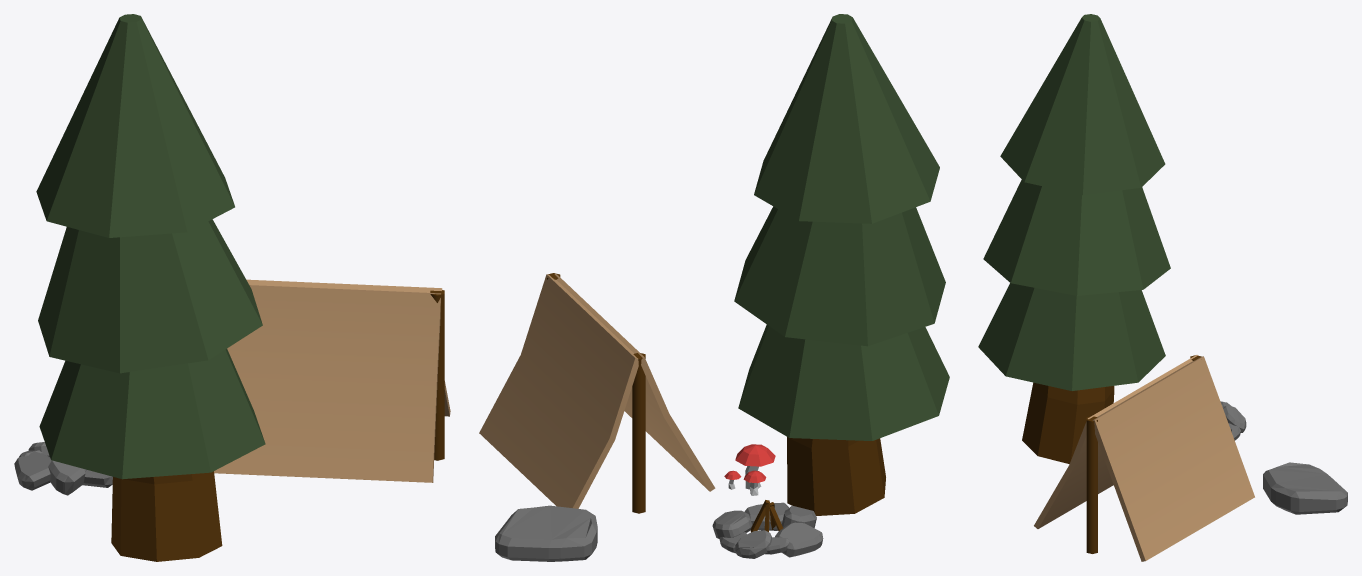
The model's file is CampForestDetail.fbx.
3 views of the same model, side by side, from view 1: azimuth 30°, elevation 25°; view 2: azimuth 150°, elevation 25°; view 3: azimuth 270°, elevation 25° (orthographic). The views are drawn at different scales.
Parts seen in each view (by area): view 1: Cylinder001; view 2: Cylinder001; view 3: Cylinder001.
Boxes of the visible parts, x1,y1,x2,y2 form: Cylinder001: [14, 14, 450, 561]; Cylinder001: [479, 14, 949, 561]; Cylinder001: [978, 14, 1347, 561].
Size of the model in its own units: 79.84 by 71.52 by 90.22.
